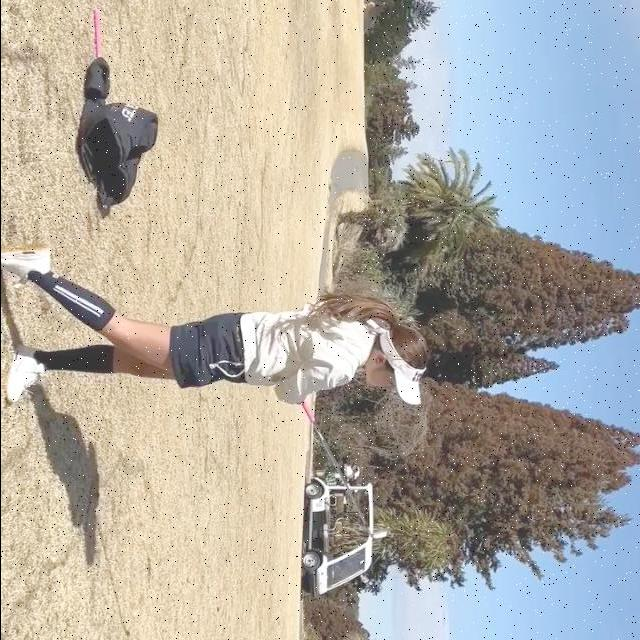golf club-handle: (303, 400, 391, 543)
golf club-head: (371, 526, 389, 540)
